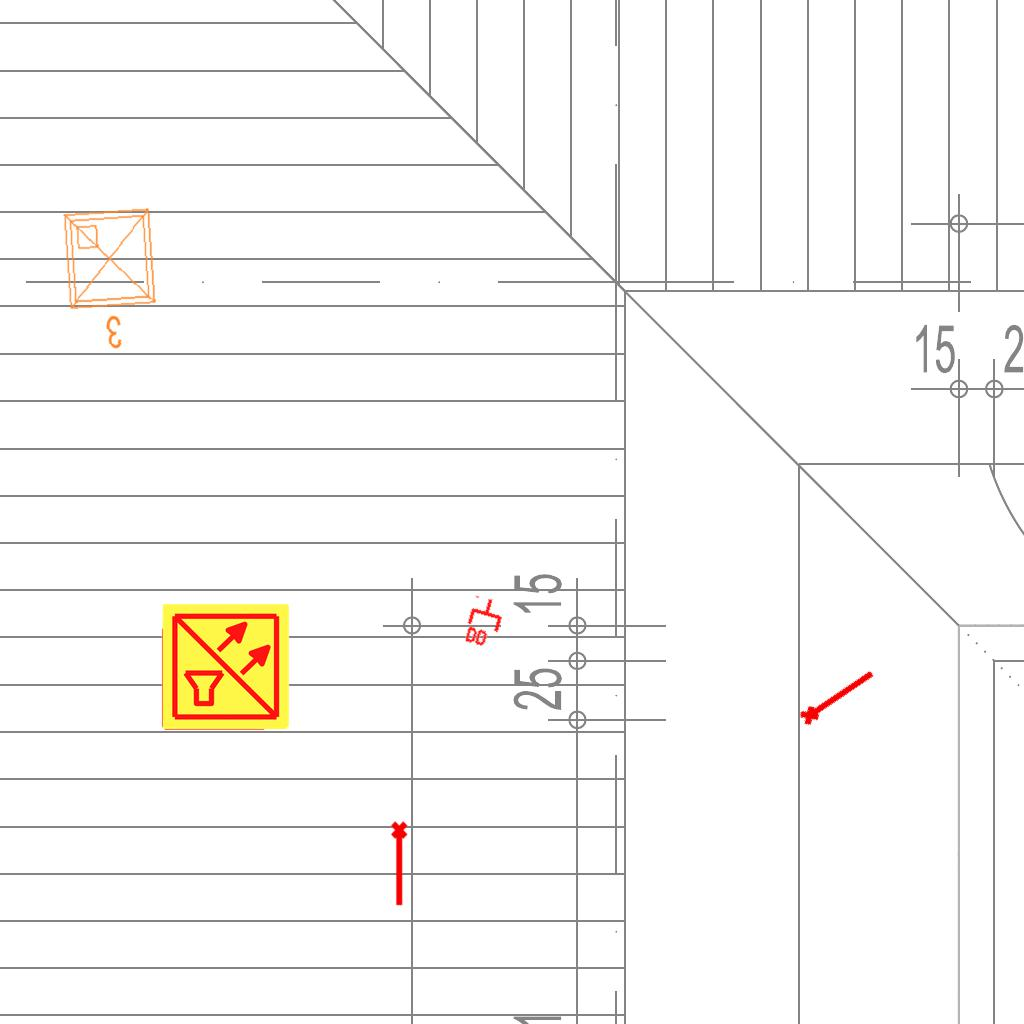ASR_Ansaugoeffnung: (794, 661, 880, 730), (389, 820, 412, 908)
Datenanschluss_zweifach: (461, 593, 509, 652)
Einbaudownlights_LED_Konferenzraeume: (55, 200, 171, 358)
OKW_Multisensormelder_(Kombination_optischer_Rauch-Kahlenmonoxid_Waerme-Melder): (160, 601, 292, 733)
